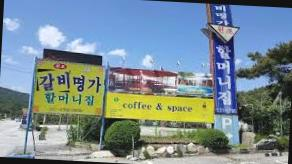galbi: (36, 68, 70, 92)
